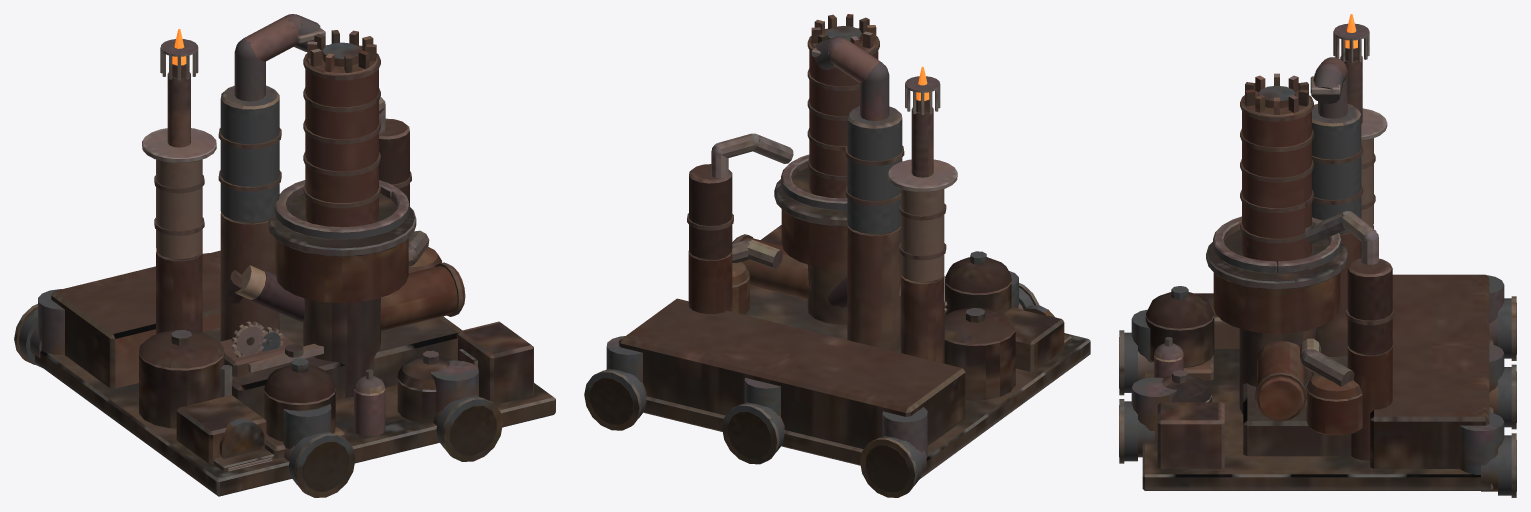
The model's file is oil-refinery.glb.
3 renders of one model, left to right at view 1: azimuth 30°, elevation 25°; view 2: azimuth 150°, elevation 25°; view 3: azimuth 270°, elevation 25°, orthographic. The views are drawn at different scales.
Parts seen in each view (by area): view 1: body, anim_gear_refinery_a, anim_yoke_refinery; view 2: body; view 3: body.
Part boxes in pixels (box(x1,y1,x2,y2)): body: box(14, 14, 555, 497); anim_gear_refinery_a: box(231, 321, 266, 356); anim_yoke_refinery: box(248, 343, 323, 372); body: box(584, 14, 1090, 497); body: box(1119, 14, 1516, 497).
Bounding box in the file's own units: 4.8 × 4.99 × 4.91.
Materials: 2 (2 with a texture image).
